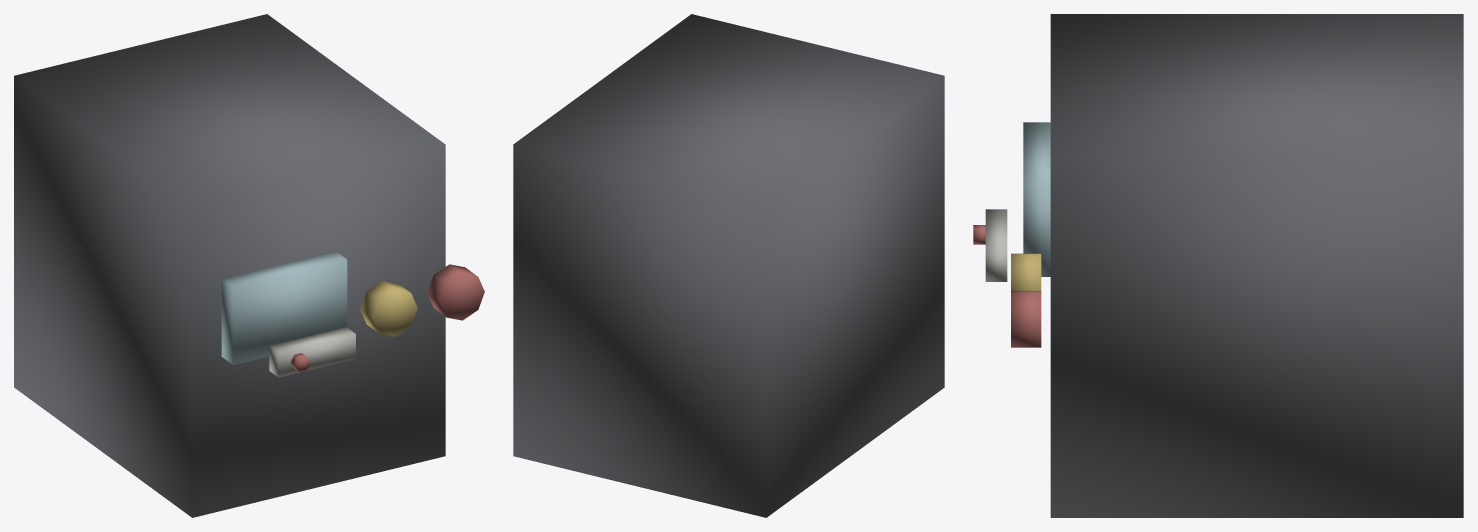
The model's file is multimeter_station__deep.glb.
3 views of the same model, side by side, from view 1: azimuth 30°, elevation 25°; view 2: azimuth 150°, elevation 25°; view 3: azimuth 270°, elevation 25° (orthographic). The views are drawn at different scales.
Visible parts, largest first — view 1: world; view 2: world; view 3: world.
Part boxes in pixels (box(x1,y1,x2,y2)): world: box(14, 14, 484, 517); world: box(513, 14, 944, 517); world: box(973, 14, 1463, 517).
Size of the model in its own units: 0.37 by 0.4 by 0.4923.
